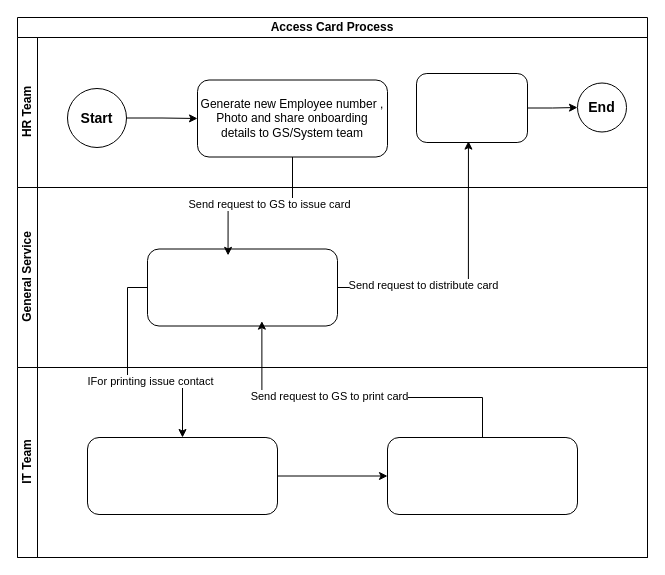
The diagram is 665 pixels wide and 575 high, and some of its shapes have lost their labels. The centre of each missing label's shape, as x and y in pixels:
Distribute card to employee: pixel 472 107
Fix template/Issue: pixel 482 475
For new template or system issue contact IT/Vendor: pixel 182 475
Print and configure access card for employee: pixel 242 287
